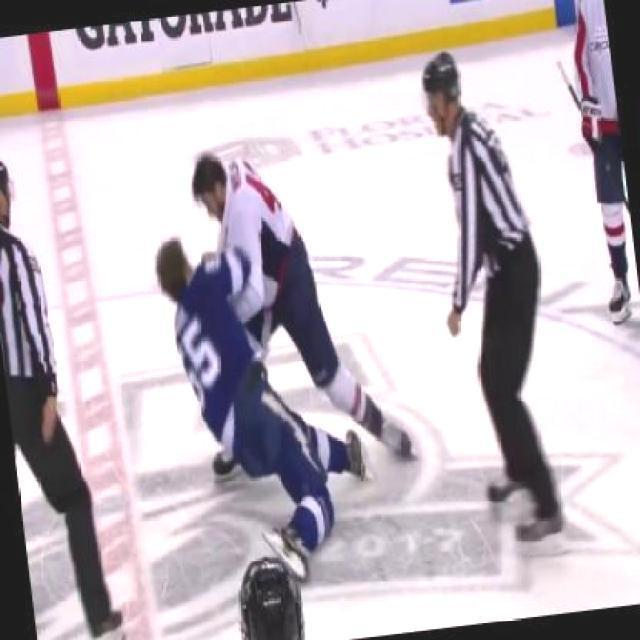fight: (138, 132, 412, 540)
